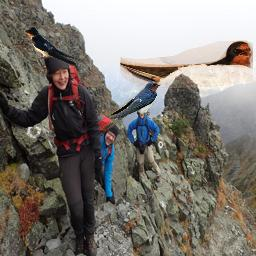Swallow: (120, 40, 253, 88), (100, 82, 161, 133), (21, 25, 85, 66)
